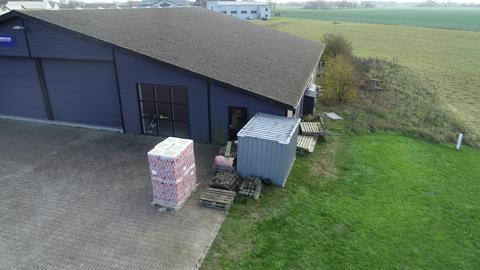RockwoolPallet: (146, 136, 198, 209)
